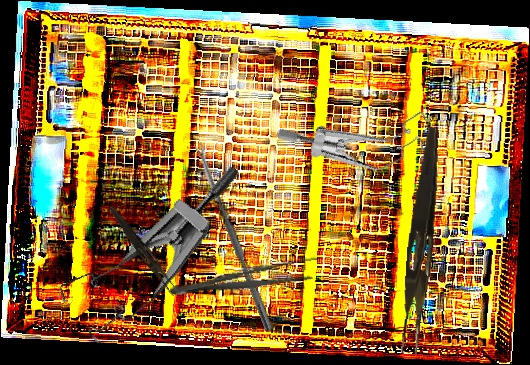Dressing Forceps: (400, 126, 442, 355), (166, 252, 327, 306), (104, 204, 182, 297)
Speculum: (45, 122, 241, 365), (274, 63, 446, 209)
Surgical Spoon: (193, 141, 275, 332)
